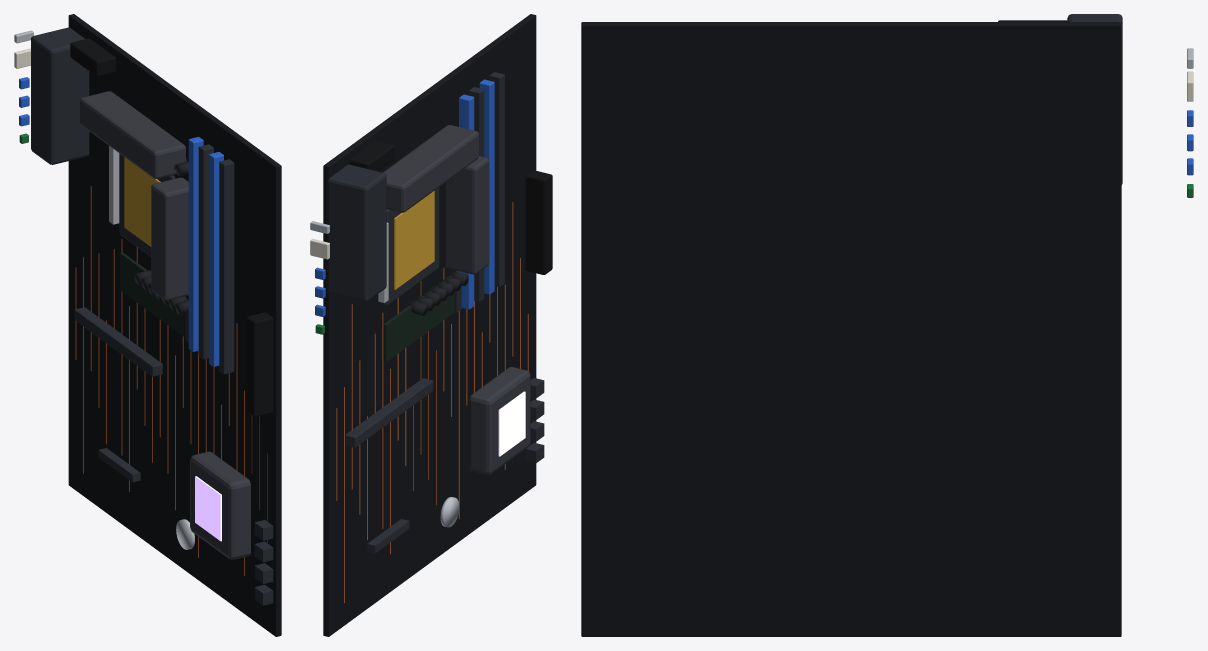
File: board.glb
3 renders of one model, left to right at view 1: azimuth 30°, elevation 25°; view 2: azimuth 150°, elevation 25°; view 3: azimuth 270°, elevation 25°, orthographic. The views are drawn at different scales.
Parts seen in each view (by area): view 1: board; view 2: board; view 3: board.
Boxes of the visible parts, bbox=[...] form: board: bbox=[14, 14, 281, 636]; board: bbox=[310, 14, 552, 636]; board: bbox=[581, 14, 1193, 636].
Size of the model in its own units: 0.3 by 3.05 by 2.76.
